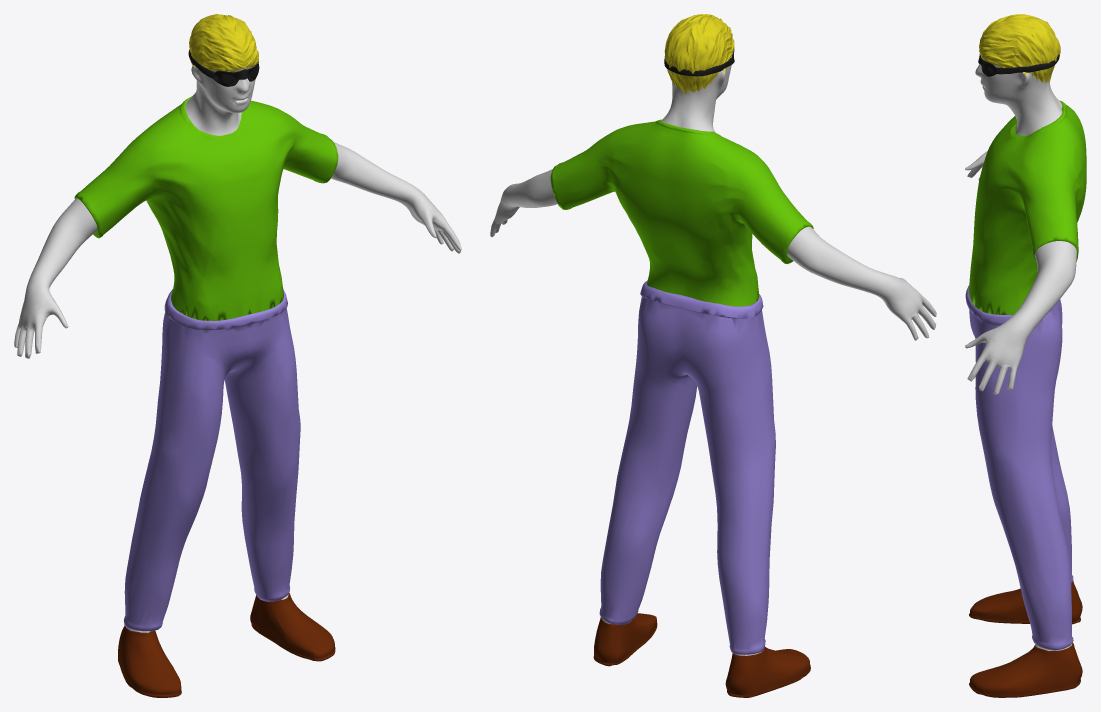
File: Player_2.fbx
3 views of the same model, side by side, from view 1: azimuth 30°, elevation 25°; view 2: azimuth 150°, elevation 25°; view 3: azimuth 270°, elevation 25° (orthographic).
Parts seen in each view (by area): view 1: Merged_Nickz_humanMaleAverage2; view 2: Merged_Nickz_humanMaleAverage2; view 3: Merged_Nickz_humanMaleAverage2.
Part boxes in pixels (bbox=[...]): Merged_Nickz_humanMaleAverage2: bbox=[14, 14, 461, 697]; Merged_Nickz_humanMaleAverage2: bbox=[490, 14, 936, 697]; Merged_Nickz_humanMaleAverage2: bbox=[965, 14, 1086, 697].
Bounding box in the file's own units: 531 × 746 × 129.
